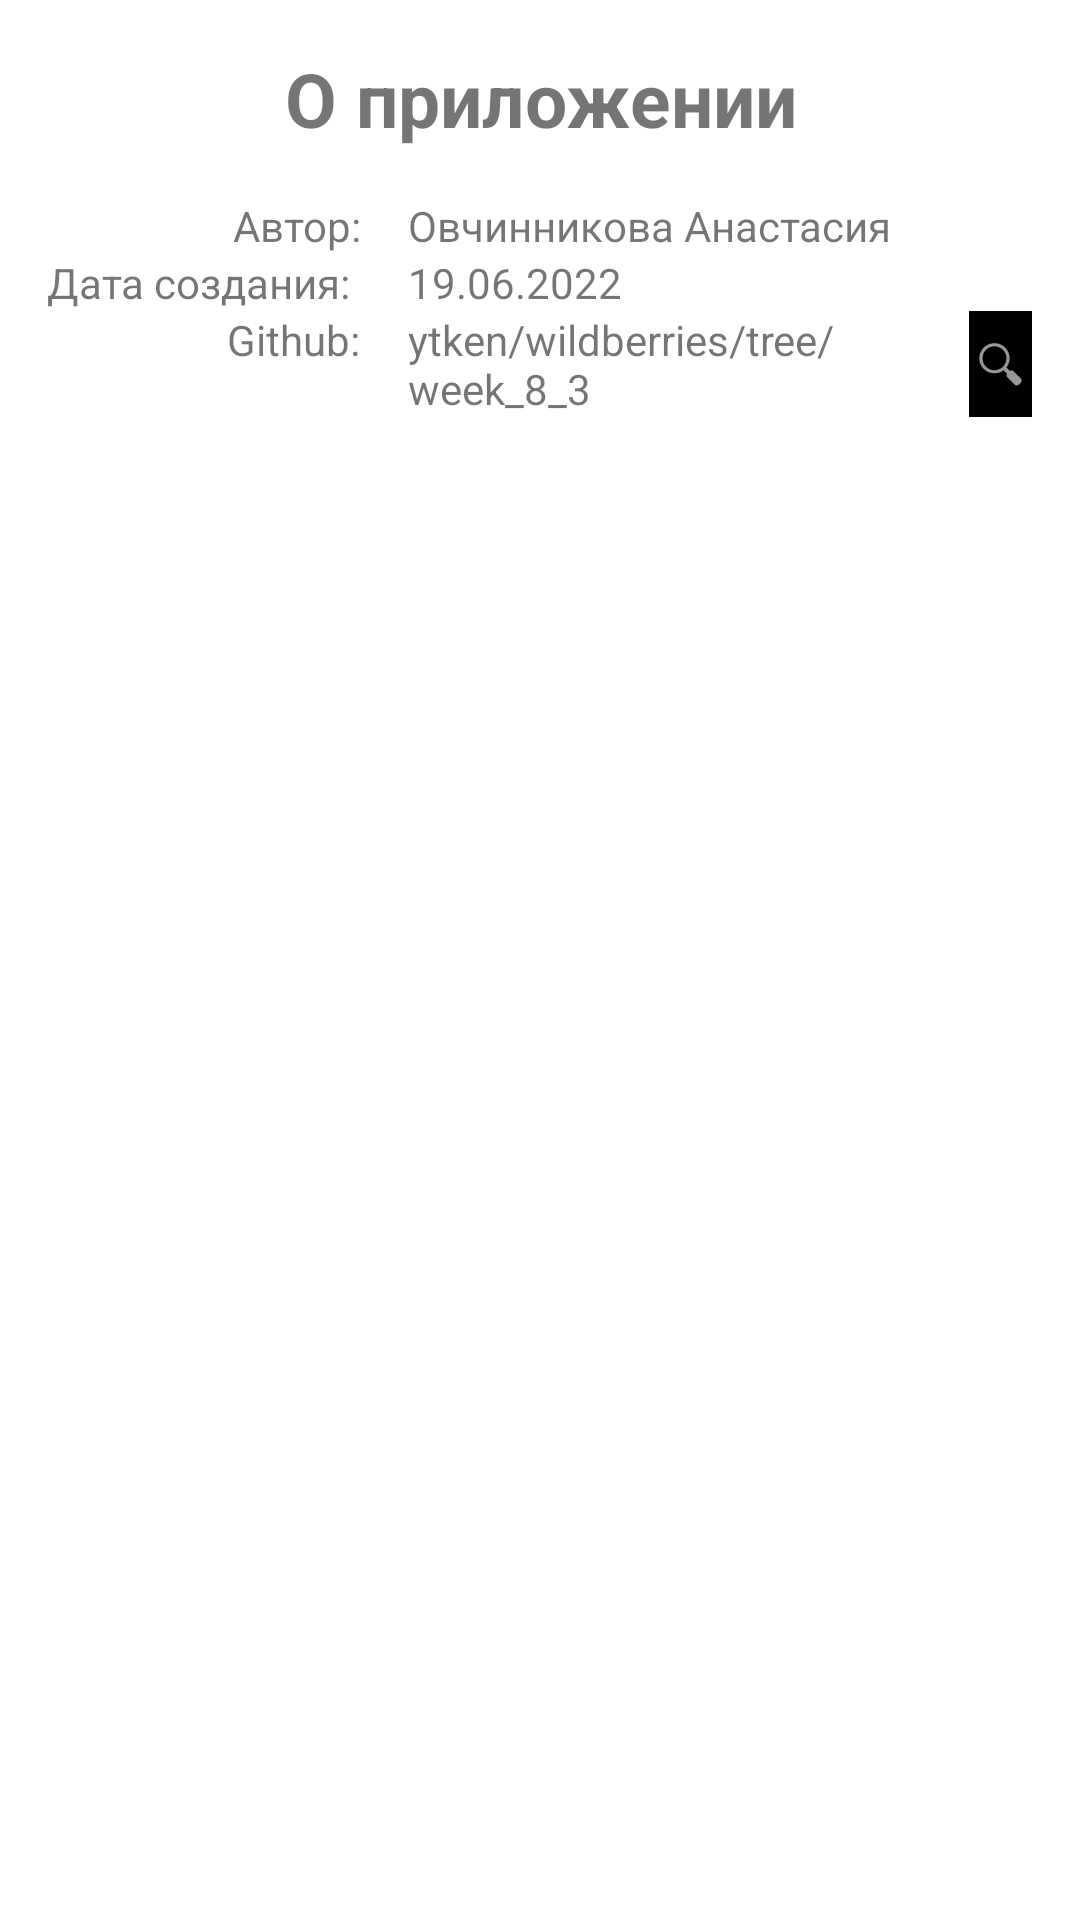

Screen size 1080px x 1920px. Icon name, then its center in pixels as (x,y):
search: (1000,364)
